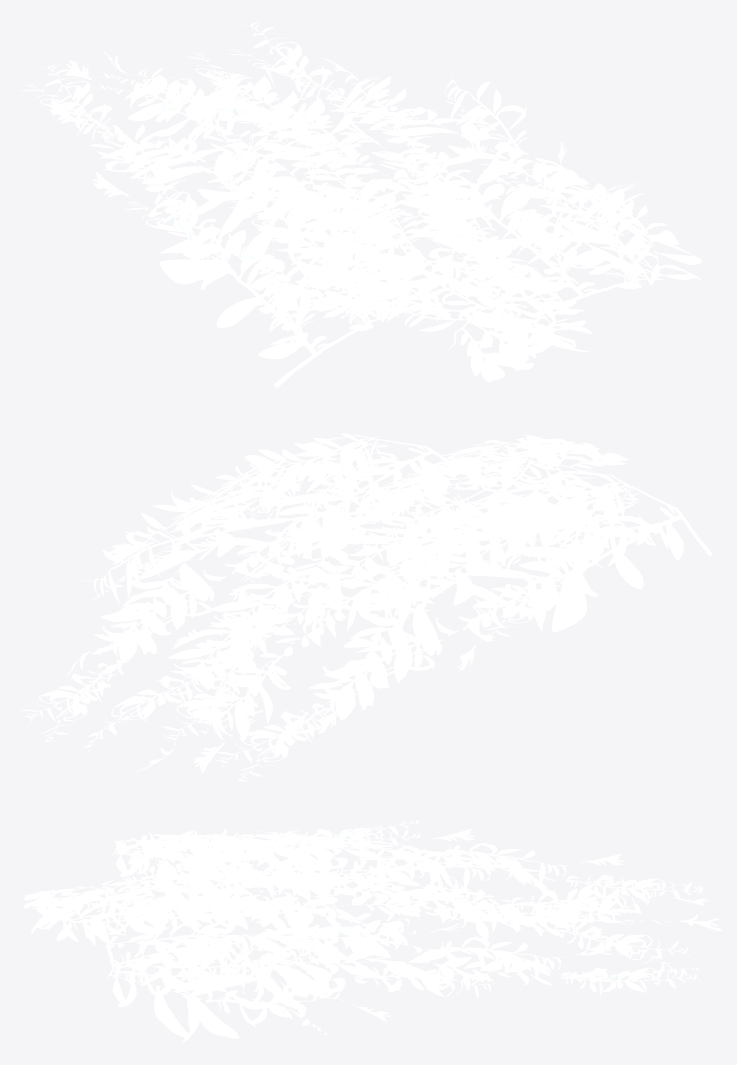
3 views of the same model, one above another, from view 1: azimuth 30°, elevation 25°; view 2: azimuth 150°, elevation 25°; view 3: azimuth 270°, elevation 25° (orthographic). The views are drawn at different scales.
Parts seen in each view (by area): view 1: SM_BM_Climbing_A_01_LOD0; view 2: SM_BM_Climbing_A_01_LOD0; view 3: SM_BM_Climbing_A_01_LOD0.
Boxes of the visible parts, x1,y1,x2,y2 form: SM_BM_Climbing_A_01_LOD0: (20,21,706,387); SM_BM_Climbing_A_01_LOD0: (19,433,712,783); SM_BM_Climbing_A_01_LOD0: (23,820,721,1042).
Bounding box in the file's own units: 2.19 × 0.461 × 3.5.
1 material, 1 textured.
